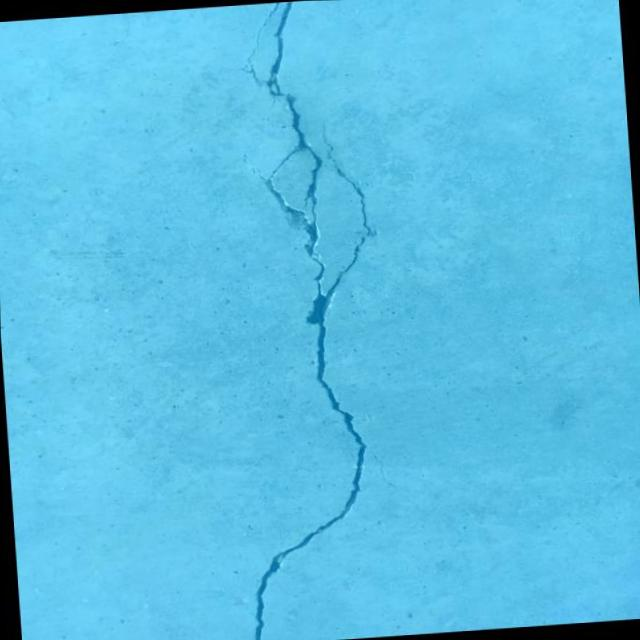crack: (206, 0, 433, 640)
